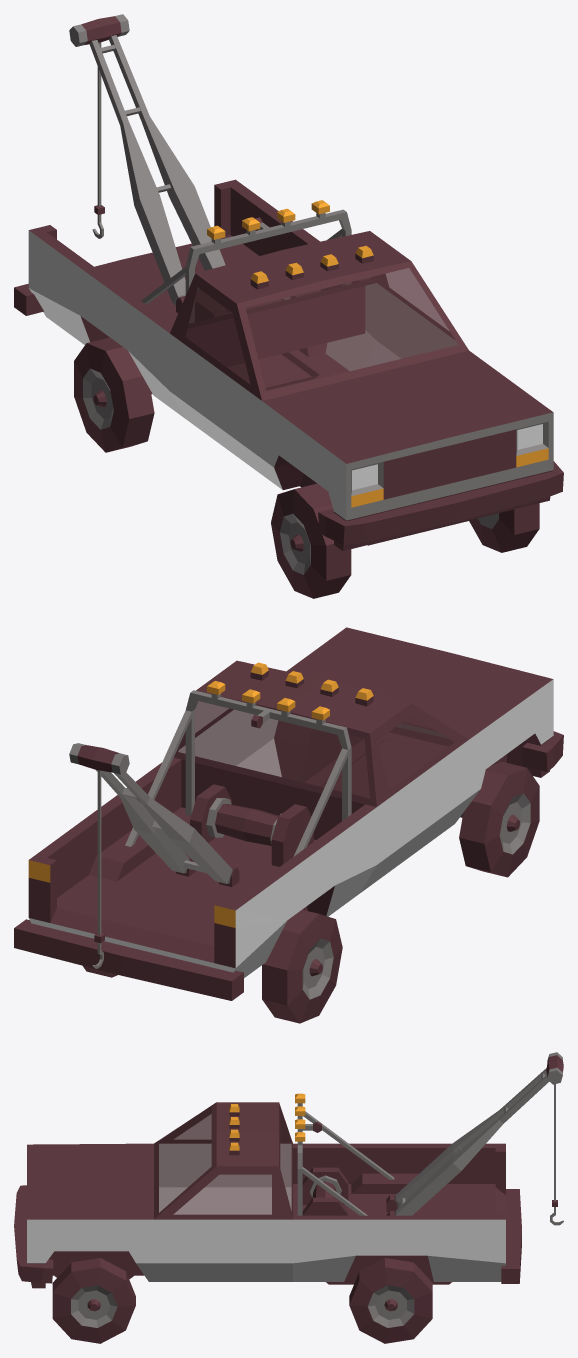
Rendered from car-tow-truck.fbx.
3 views of the same model, one above another, from view 1: azimuth 30°, elevation 25°; view 2: azimuth 150°, elevation 25°; view 3: azimuth 270°, elevation 25° (orthographic). The views are drawn at different scales.
Visible parts, largest first — view 1: car-tow-truck-base, car-tow-truck_BR, car-tow-truck-wheel_FR, car-tow-truck-wheel_FL; view 2: car-tow-truck-base, car-tow-truck-wheel_FR, car-tow-truck_BR; view 3: car-tow-truck-base, car-tow-truck-wheel_FL, car-tow-truck-wheel_BL.
Part boxes in pixels (x1,y1,x2,y2): car-tow-truck-base: [14, 14, 563, 550]; car-tow-truck_BR: [74, 337, 154, 452]; car-tow-truck-wheel_FR: [271, 483, 351, 598]; car-tow-truck-wheel_FL: [469, 503, 539, 552]; car-tow-truck-base: [14, 627, 563, 1000]; car-tow-truck-wheel_FR: [459, 761, 539, 877]; car-tow-truck_BR: [262, 909, 342, 1023]; car-tow-truck-base: [14, 1052, 563, 1288]; car-tow-truck-wheel_FL: [52, 1258, 135, 1343]; car-tow-truck-wheel_BL: [349, 1258, 432, 1343].
Bounding box in the file's own units: 1.96 × 2.66 × 5.43.
